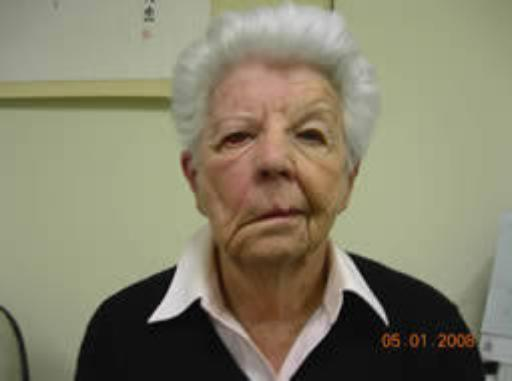left_eye: (292, 131, 332, 149)
left_lip_corner: (299, 208, 316, 224)
right_eye: (214, 131, 256, 150)
right_lip_corner: (239, 218, 255, 232)
